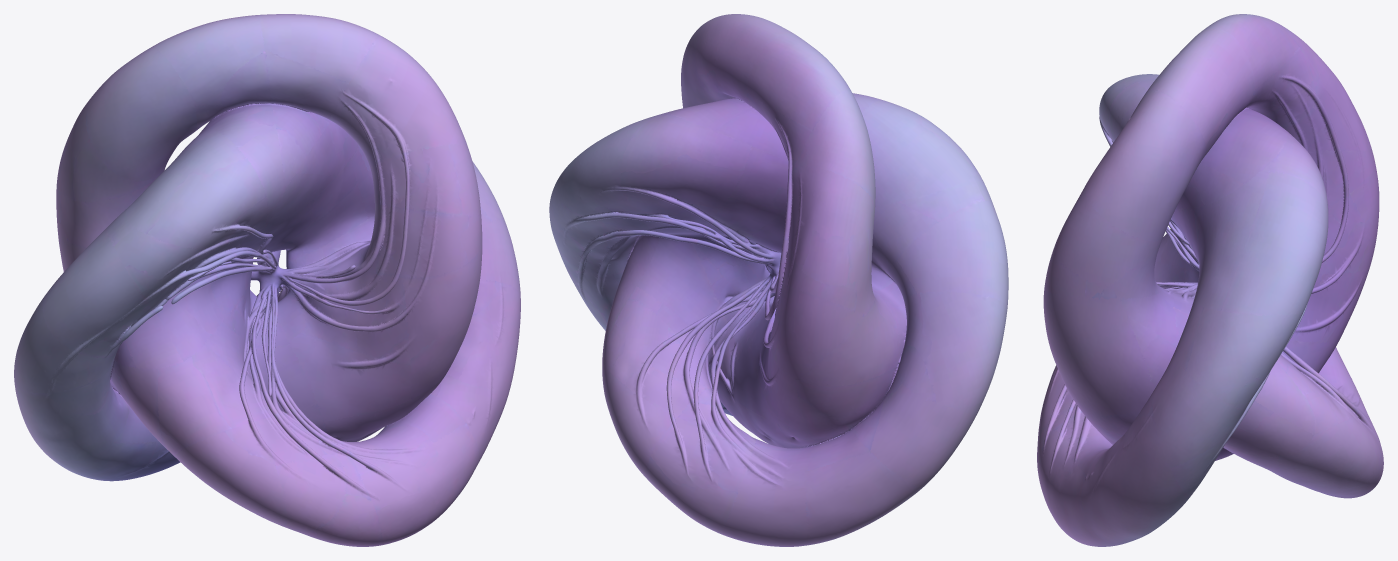
File: aura emotion 4-MB_ZXhLh.glb
3 renders of one model, left to right at view 1: azimuth 30°, elevation 25°; view 2: azimuth 150°, elevation 25°; view 3: azimuth 270°, elevation 25°, orthographic. The views are drawn at different scales.
Bounding box in the file's own units: 1.9 × 1.86 × 1.24.
Materials: 1 (1 with a texture image).
